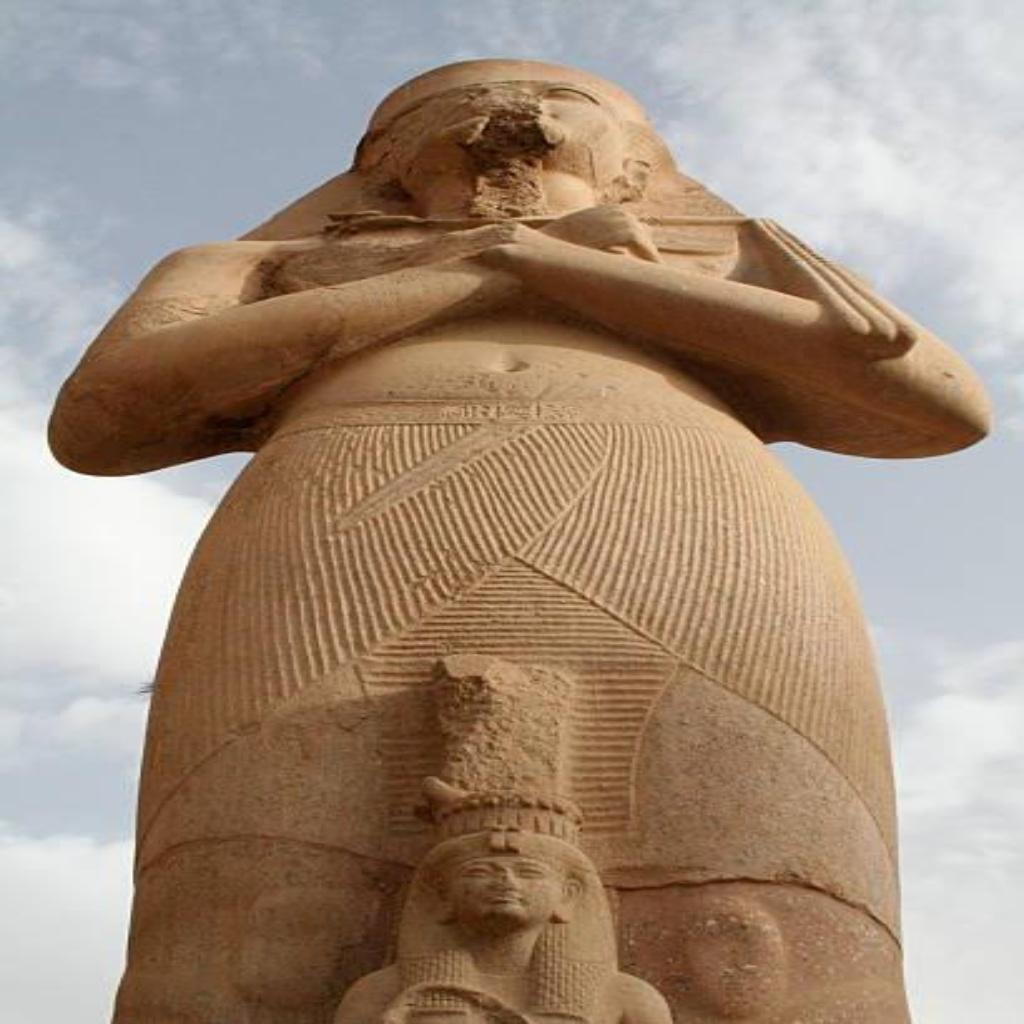Standing Statue of King Ramses II: (42, 54, 996, 1022)
